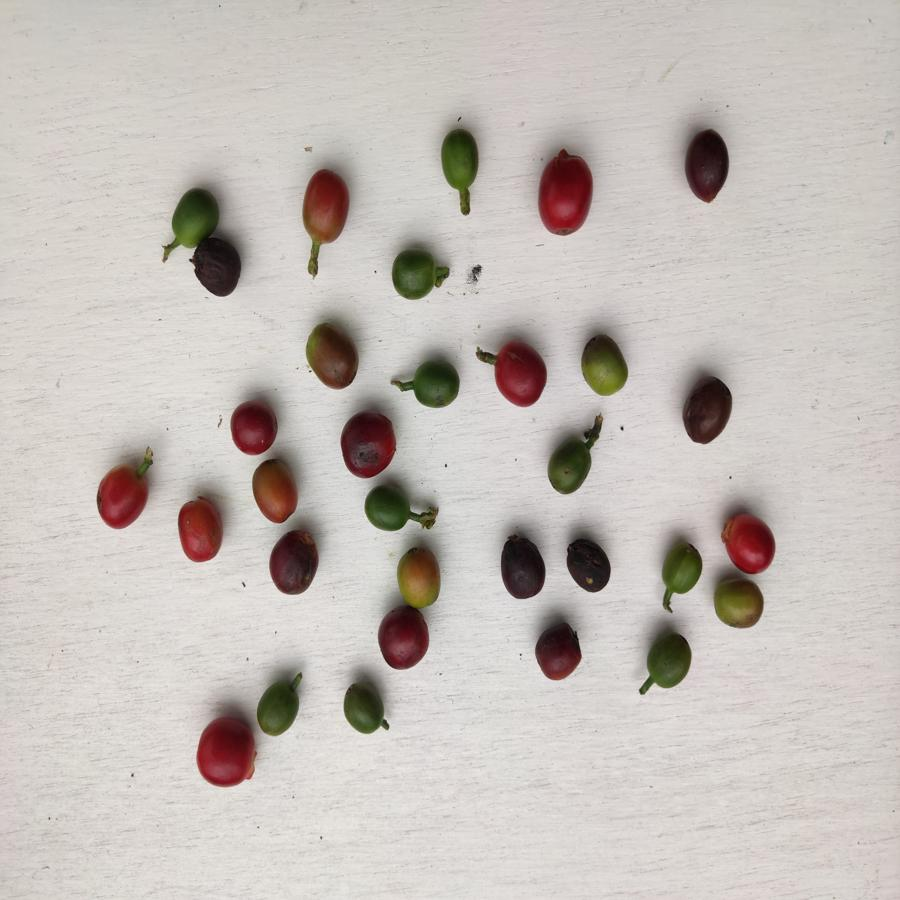Inmaduro: (637, 634, 695, 692), (436, 127, 484, 193), (411, 354, 464, 413), (385, 249, 448, 298), (341, 677, 391, 738), (165, 189, 227, 235), (547, 438, 594, 496), (256, 679, 301, 738), (662, 540, 707, 596), (362, 485, 413, 533)
Maduro: (534, 151, 593, 237), (193, 717, 258, 789), (488, 342, 551, 410), (173, 496, 227, 566), (722, 512, 778, 579), (93, 466, 149, 533), (226, 400, 282, 453)
Pinton: (301, 323, 365, 392), (301, 169, 351, 244), (579, 335, 631, 398), (394, 544, 443, 607), (711, 576, 765, 631), (252, 458, 296, 522)
Sobremaduro: (681, 129, 739, 207), (337, 411, 397, 480), (678, 374, 735, 446), (265, 528, 325, 596), (374, 606, 431, 669), (498, 535, 549, 603), (534, 620, 585, 681), (191, 235, 241, 296), (563, 538, 613, 597)
